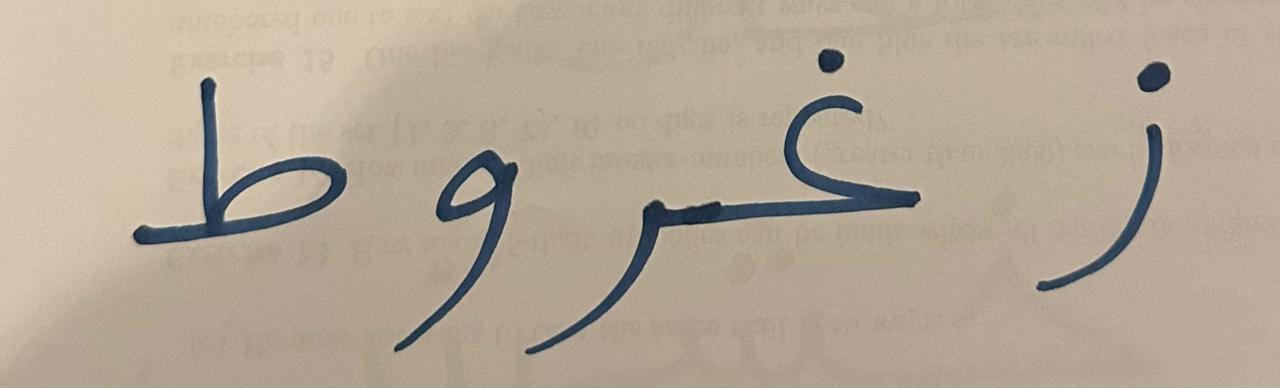ghain: (714, 7, 950, 289)
hamza: (954, 19, 1225, 333)
sad: (524, 136, 710, 369)
teh: (105, 20, 362, 312)
yeh: (368, 94, 520, 371)
